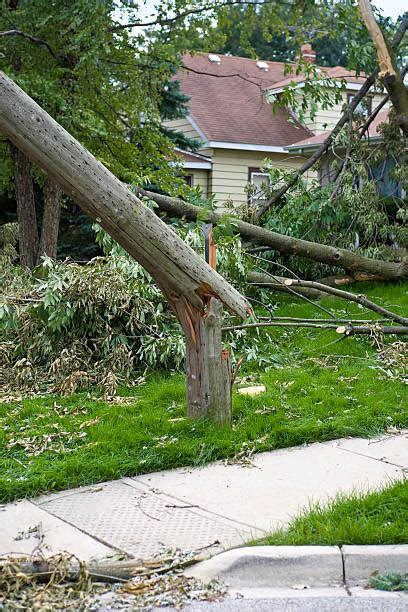pole: (3, 68, 265, 427)
